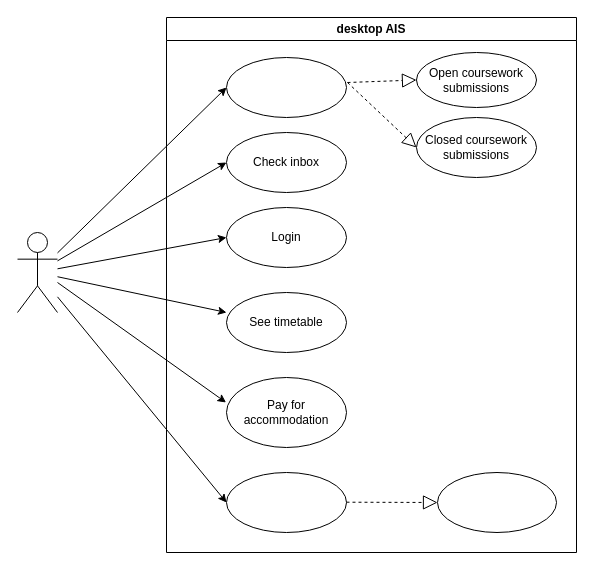
The diagram is 594 pixels wide and 570 high, and some of its shapes have lost their labels. The shapes that lost their labels are listed below. From the top down, each one's box as (x1, y1, x2, y2) in pixels, then its label:
(226, 56, 346, 118): See assignments
(16, 232, 58, 312): Student
(226, 472, 346, 532): See assessments
(436, 472, 556, 532): Choose study period
